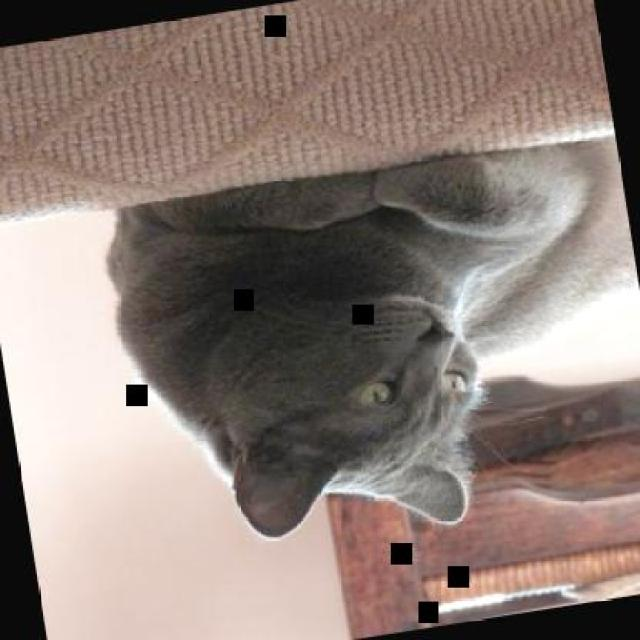cat: (92, 126, 638, 572)
